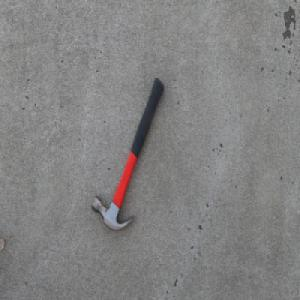Hammer: (91, 77, 164, 232)
